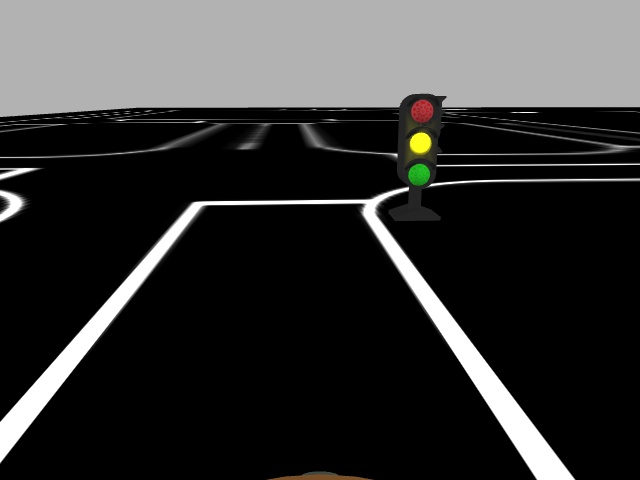yellow_light: (396, 94, 443, 189)
